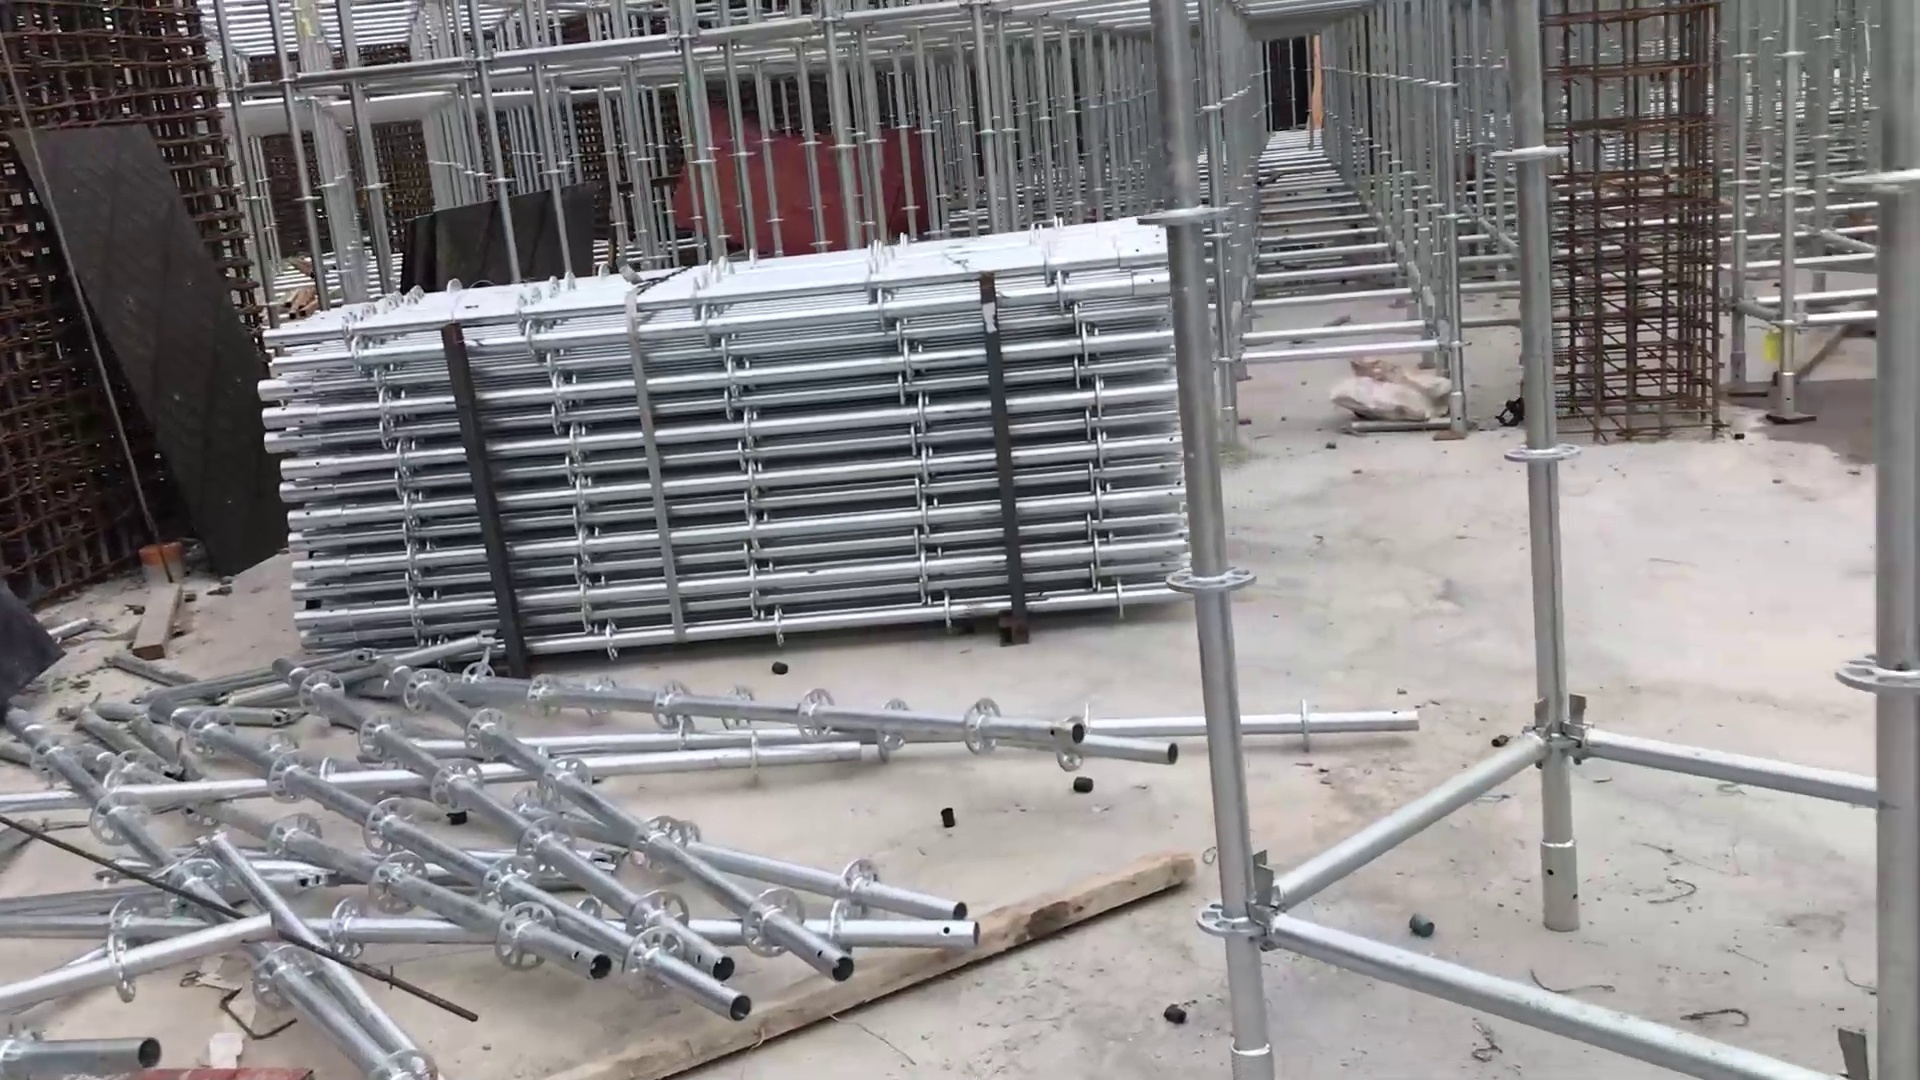scaffold: (274, 223, 1188, 667)
